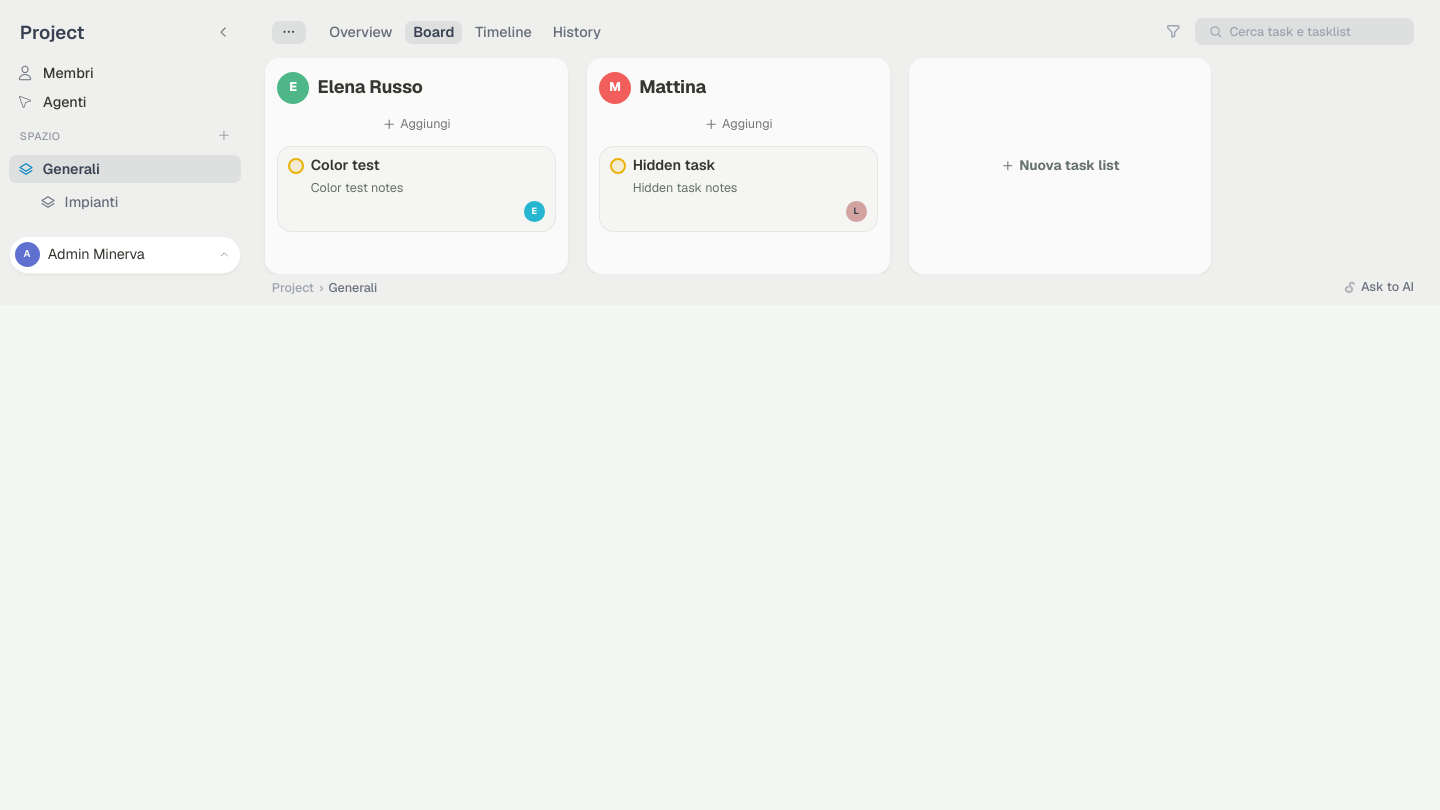
board shell › shows recurrence controls without a date field for recurring tasks
The image size is (1440, 810).
Click the button "Aggiungi" below "Elena Russo" at [416, 124], box left=379, top=112, right=454, bottom=136
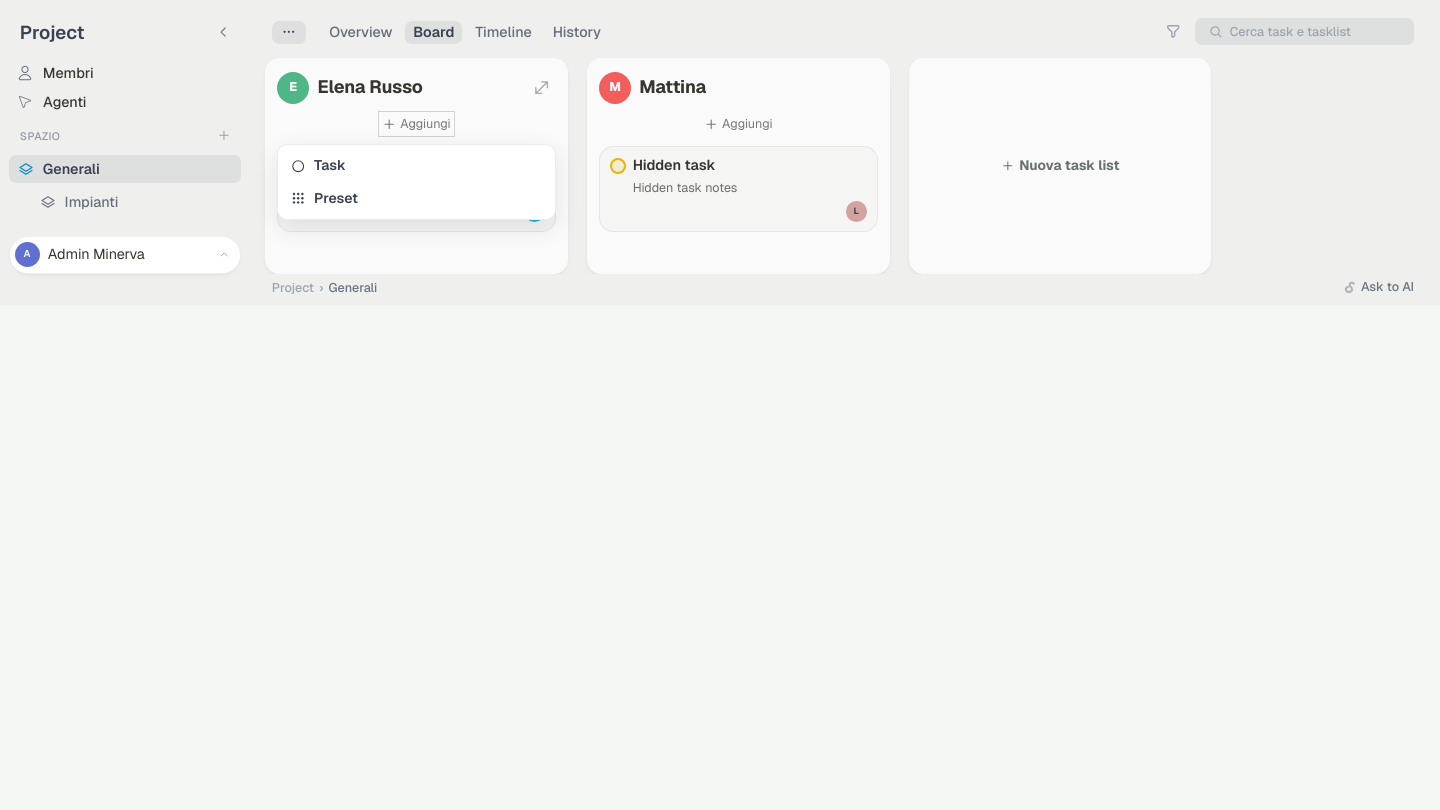
Click the menu item "Task" at [330, 165], box left=282, top=150, right=551, bottom=182
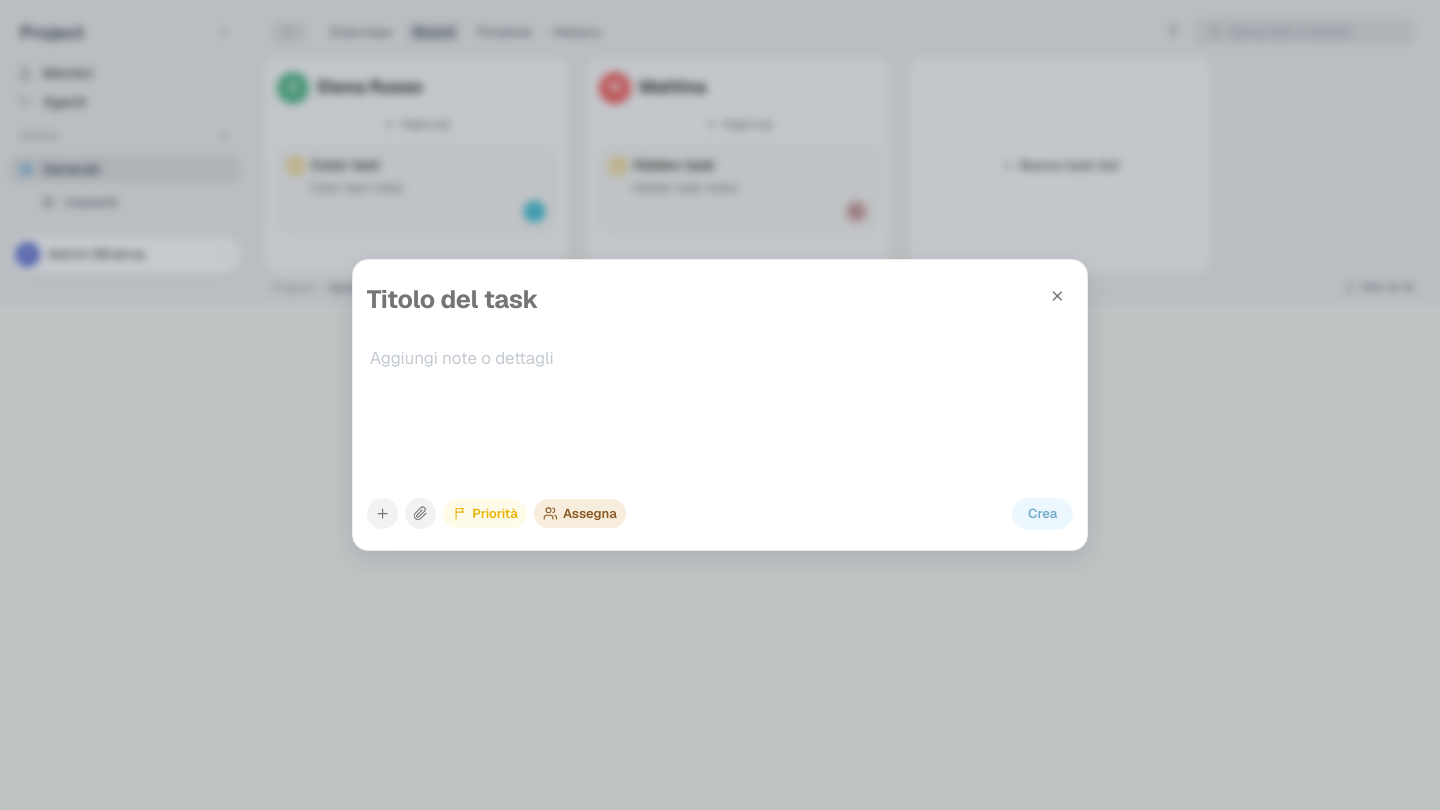
Click the button "Priorità" at [485, 514], box left=443, top=499, right=527, bottom=528
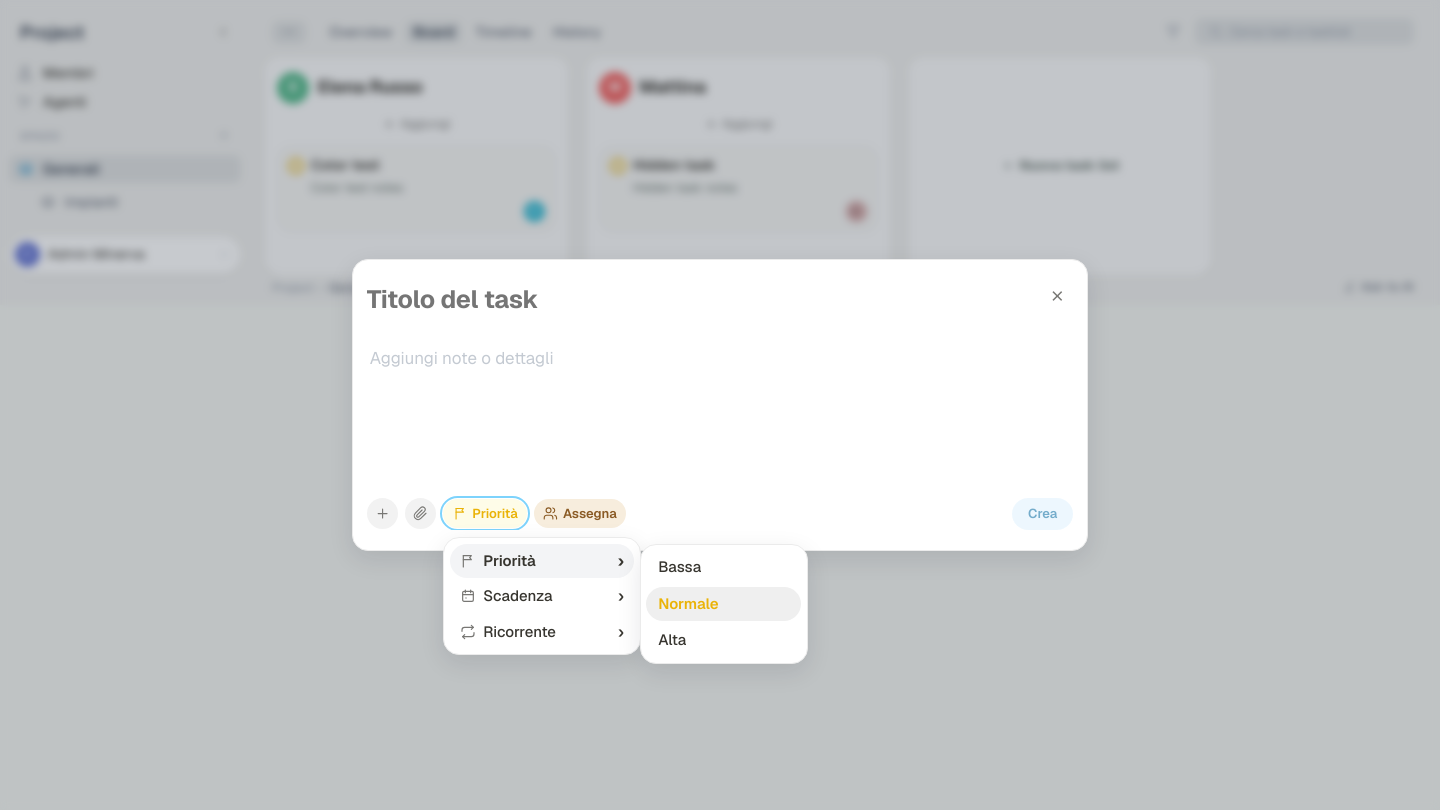
Click the menu item "Ricorrente ›" at [542, 632], box left=450, top=615, right=634, bottom=649
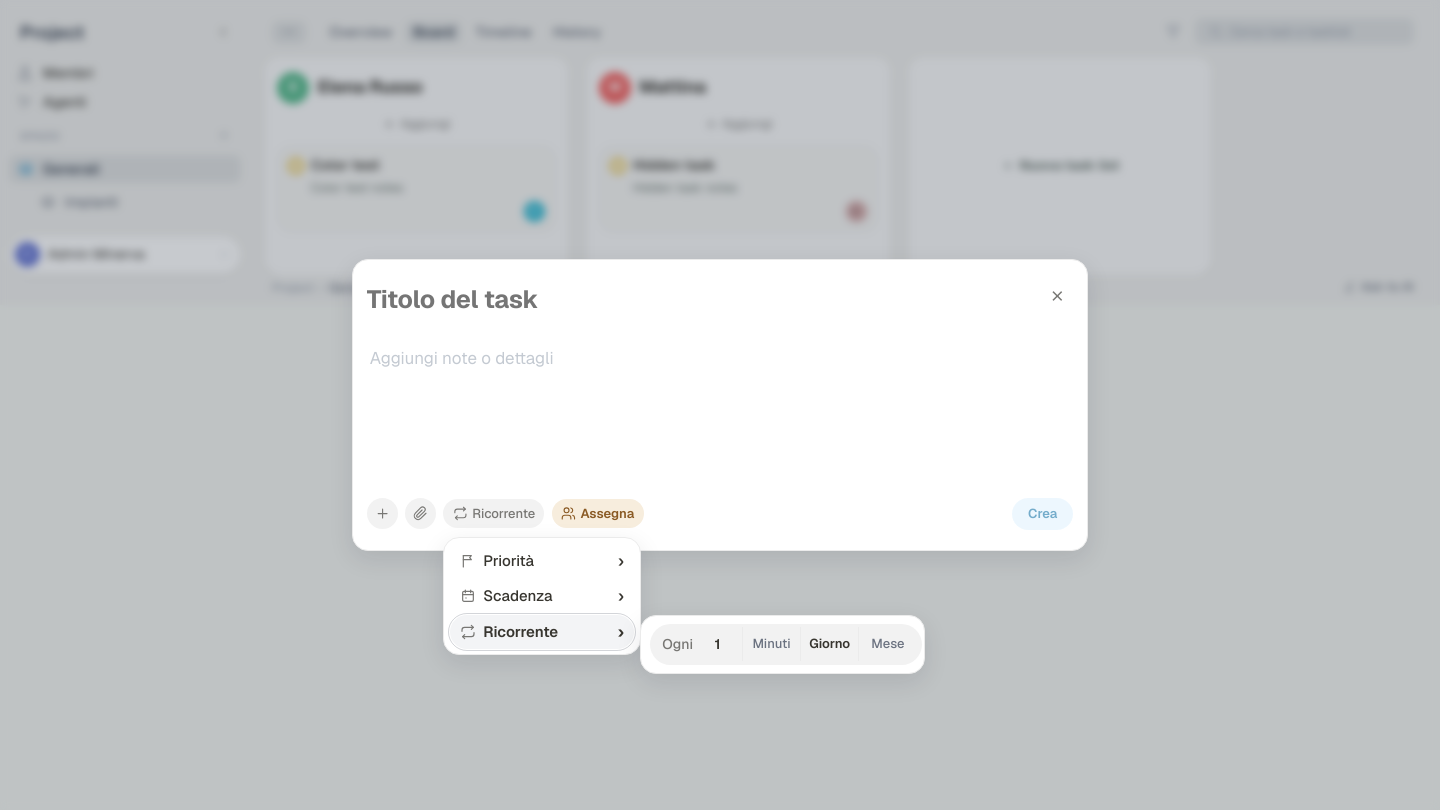
Expected: the number field named "Intervallo ricorrenza" is shown, left=699, top=627, right=736, bottom=661
Expected: the radio button labelled "Minuti" is shown, left=743, top=627, right=801, bottom=661
Expected: the radio button labelled "Giorno" is shown, left=801, top=627, right=859, bottom=661
